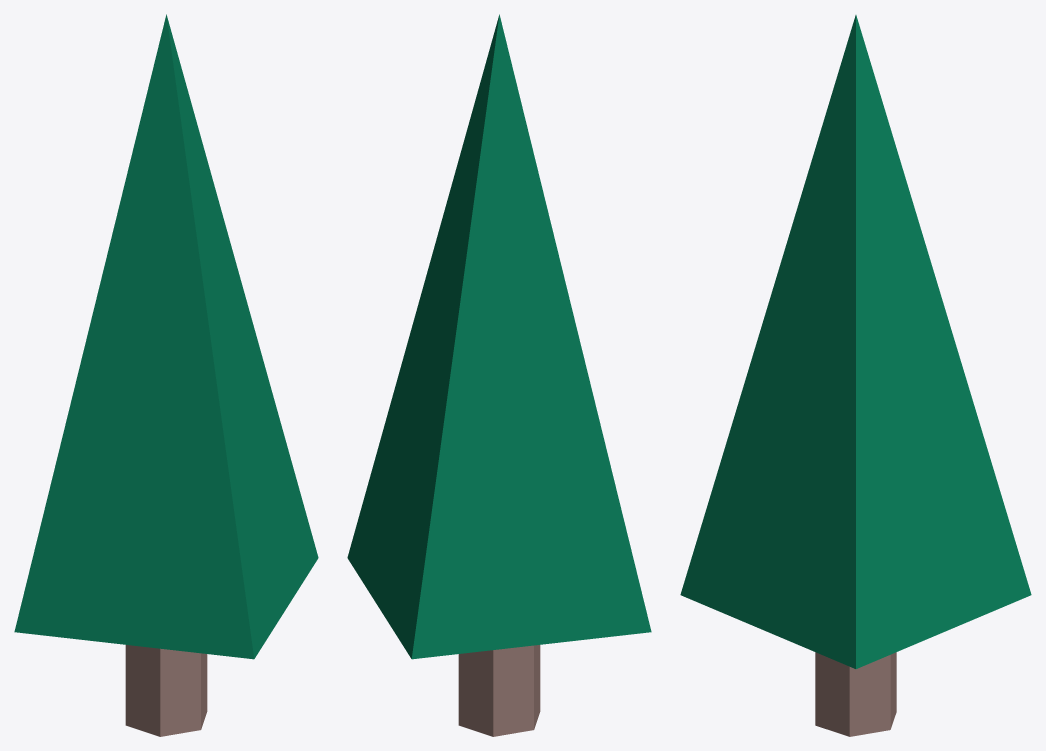
File: world_1_brush_1.dae
3 views of the same model, side by side, from view 1: azimuth 30°, elevation 25°; view 2: azimuth 150°, elevation 25°; view 3: azimuth 270°, elevation 25° (orthographic).
Visible parts, largest first — view 1: world_1_brush_1_leaves, world_1_brush_1_base; view 2: world_1_brush_1_leaves, world_1_brush_1_base; view 3: world_1_brush_1_leaves, world_1_brush_1_base.
Boxes of the visible parts, x1,y1,x2,y2 form: world_1_brush_1_leaves: (14, 14, 318, 659); world_1_brush_1_base: (125, 645, 207, 736); world_1_brush_1_leaves: (347, 14, 651, 659); world_1_brush_1_base: (458, 645, 540, 736); world_1_brush_1_leaves: (680, 15, 1031, 668); world_1_brush_1_base: (815, 652, 896, 736).
Bounding box in the file's own units: 0.3827 × 0.3827 × 0.847.
